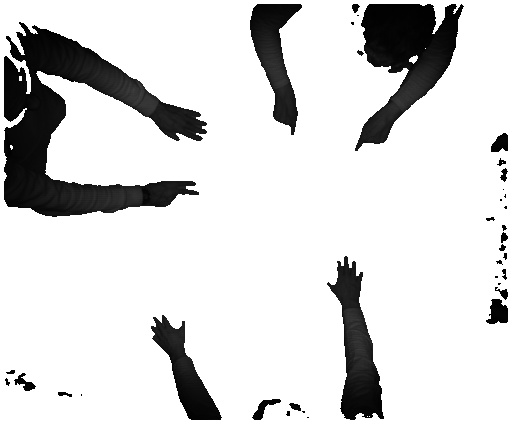hand: (321, 256, 367, 307), (144, 312, 189, 357), (156, 105, 207, 143), (352, 112, 394, 151), (151, 180, 199, 207), (272, 97, 303, 135)
